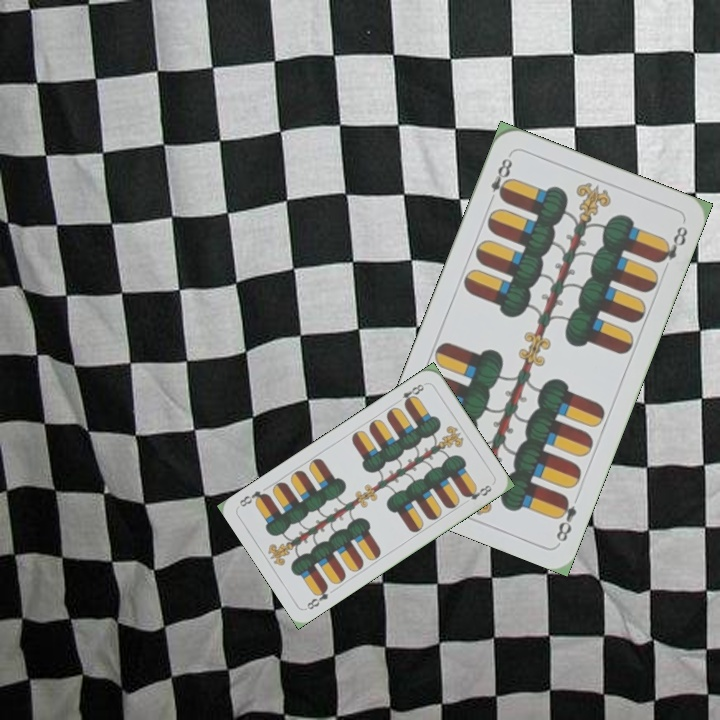E8: (484, 151, 516, 207), (552, 491, 579, 545), (392, 379, 429, 408), (303, 581, 331, 612)
